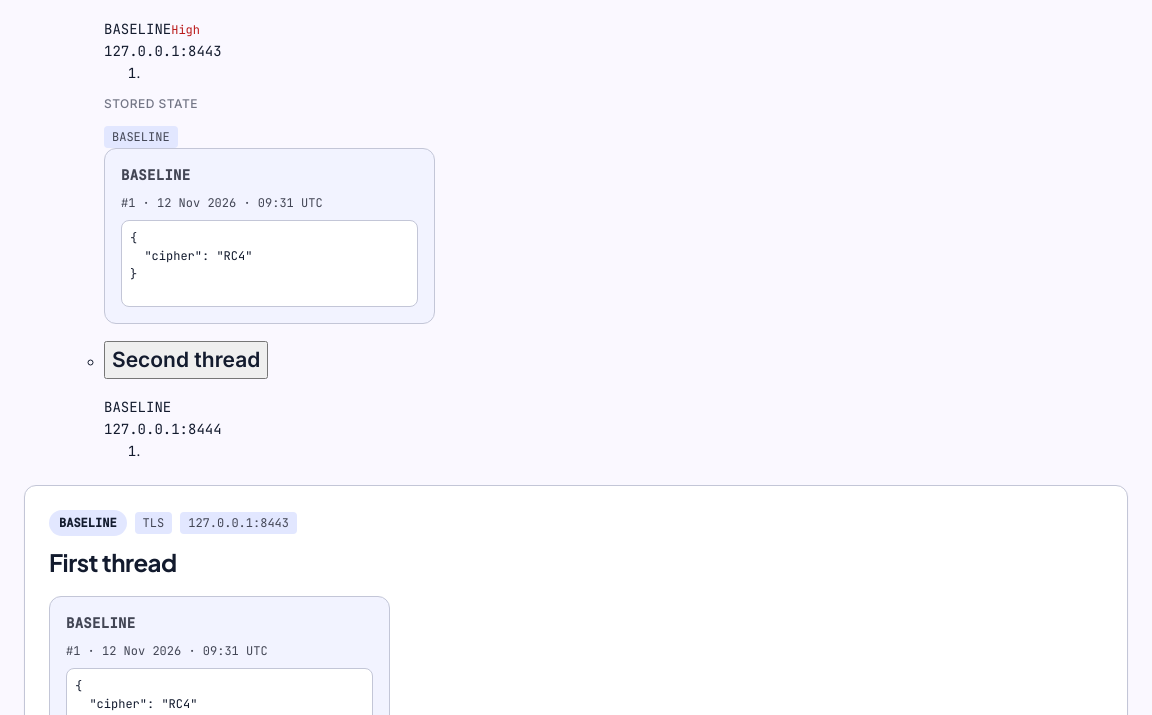
Test: Drift › keeps every stored thread reachable before the detail on narrow screens
(page scrolled)
Expected: the 2nd heading "First thread" is shown, [49,547,177,577]
Click the button "Second thread" at (186, 360), box [104,341,268,379]
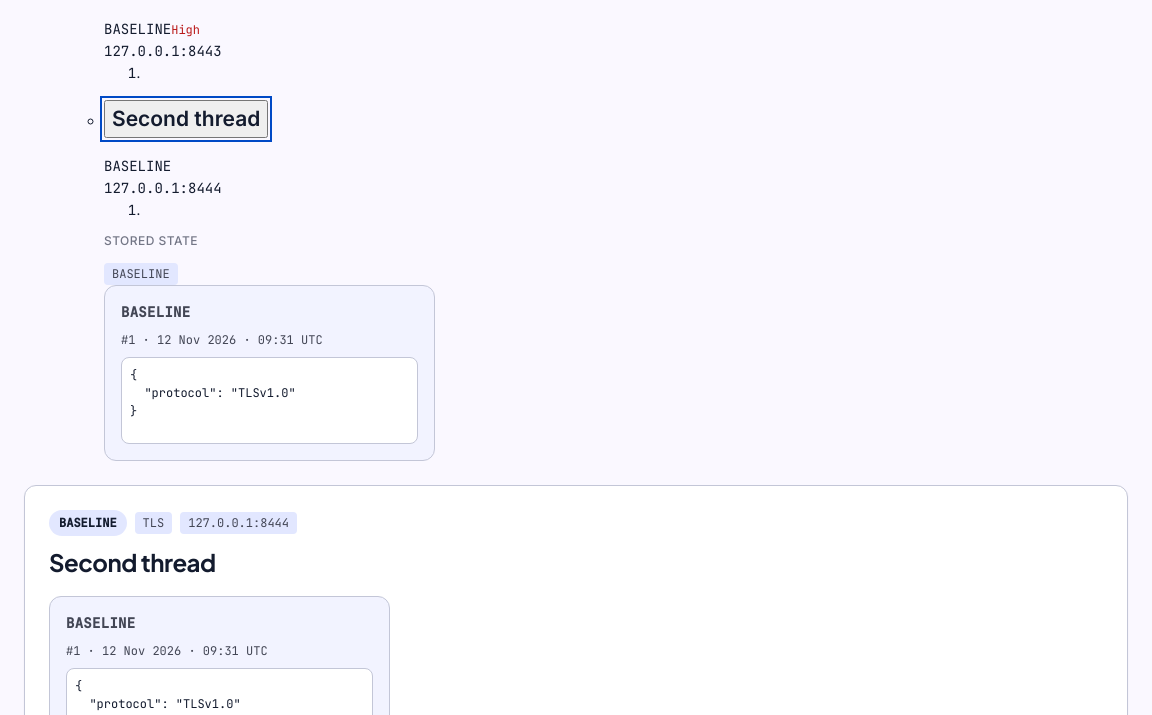
Expected: the heading "Second thread" below "High" is shown, [104,100,268,138]
Expected: the 2nd heading "Second thread" is shown, [49,547,216,577]
